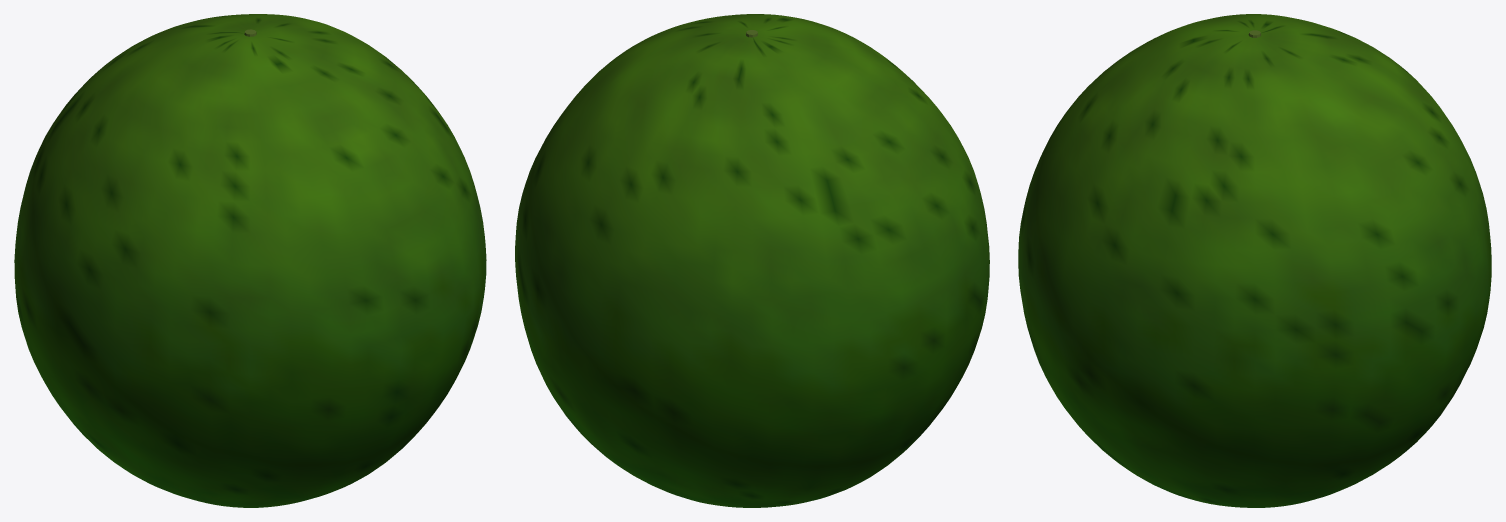
Rendered from citron-galet.glb.
The picture shows the model from 3 angles, left to right: view 1: azimuth 30°, elevation 25°; view 2: azimuth 150°, elevation 25°; view 3: azimuth 270°, elevation 25°; orthographic projection.
Visible parts, largest first — view 1: entier_peau, moitie_B_peau, moitie_A_peau; view 2: entier_peau, moitie_A_peau, moitie_B_peau; view 3: entier_peau, moitie_A_peau, moitie_B_peau.
Boxes of the visible parts, x1,y1,x2,y2 form: entier_peau: [14, 14, 486, 507]; moitie_B_peau: [46, 30, 485, 507]; moitie_A_peau: [14, 14, 370, 448]; entier_peau: [515, 14, 989, 507]; moitie_A_peau: [515, 29, 957, 507]; moitie_B_peau: [695, 15, 989, 454]; entier_peau: [1018, 14, 1491, 507]; moitie_A_peau: [1255, 17, 1491, 507]; moitie_B_peau: [1018, 15, 1254, 507].
Size of the model in its own units: 1.9 by 2.01 by 1.9.
